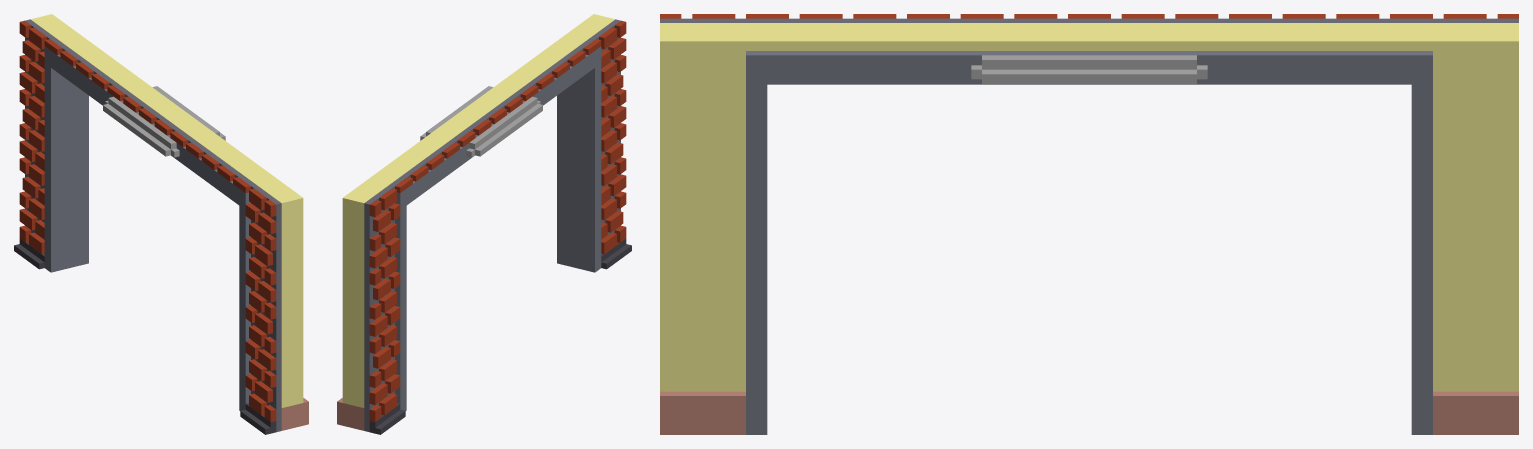
File: PuertaAuto.obj
3 views of the same model, side by side, from view 1: azimuth 30°, elevation 25°; view 2: azimuth 150°, elevation 25°; view 3: azimuth 270°, elevation 25° (orthographic). The views are drawn at different scales.
Size of the model in its own units: 1.1 by 4 by 8.
1 material, 1 textured.
